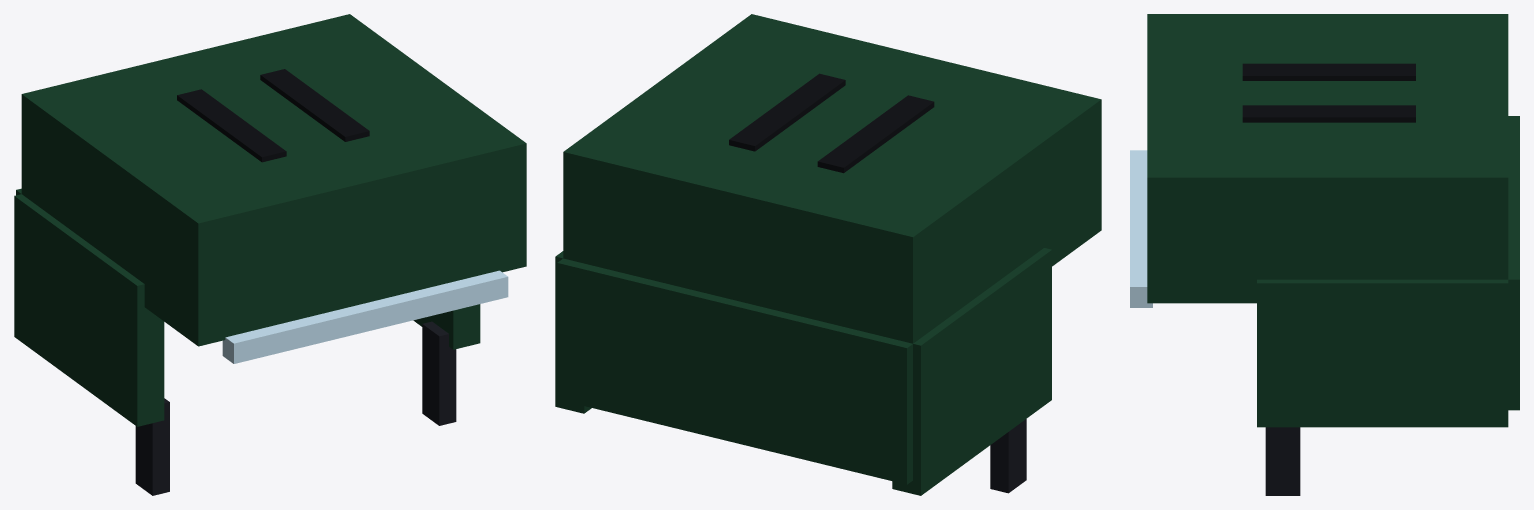
Rendered from helmet_jacks.glb.
3 renders of one model, left to right at view 1: azimuth 30°, elevation 25°; view 2: azimuth 150°, elevation 25°; view 3: azimuth 270°, elevation 25°, orthographic. The views are drawn at different scales.
Parts seen in each view (by area): view 1: ice_helmet_body; view 2: ice_helmet_body; view 3: ice_helmet_body.
Part boxes in pixels (x1,y1,x2,y2): ice_helmet_body: (14,14,526,495); ice_helmet_body: (555,14,1101,495); ice_helmet_body: (1130,14,1519,495).
Bounding box in the file's own units: 0.5385 × 0.4846 × 0.5192.
Materials: 1 (1 with a texture image).
